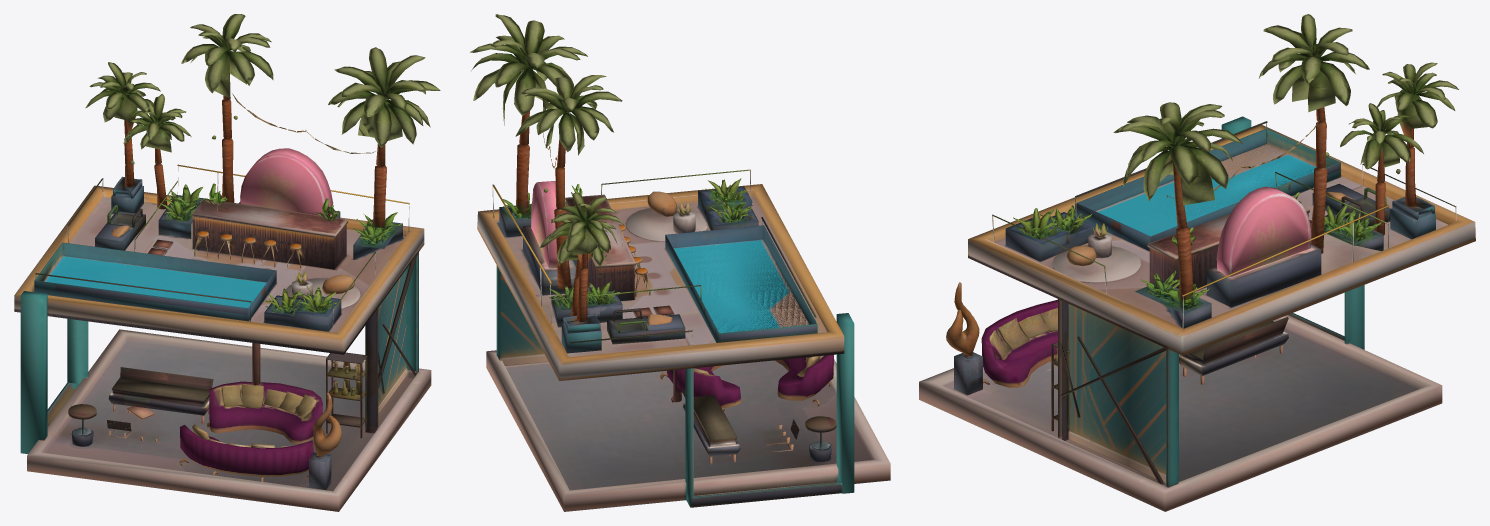
File: tier5-lv23.glb
3 views of the same model, side by side, from view 1: azimuth 30°, elevation 25°; view 2: azimuth 150°, elevation 25°; view 3: azimuth 270°, elevation 25° (orthographic). The views are drawn at different scales.
Parts seen in each view (by area): view 1: tripo_node_d2e096e9-142d-430e-8675-6ba031216216; view 2: tripo_node_d2e096e9-142d-430e-8675-6ba031216216; view 3: tripo_node_d2e096e9-142d-430e-8675-6ba031216216.
Part boxes in pixels (left/top/right/bottom): tripo_node_d2e096e9-142d-430e-8675-6ba031216216: left=14, top=14, right=440, bottom=511; tripo_node_d2e096e9-142d-430e-8675-6ba031216216: left=470, top=14, right=890, bottom=511; tripo_node_d2e096e9-142d-430e-8675-6ba031216216: left=919, top=14, right=1475, bottom=511.
Size of the model in its own units: 1.19 by 0.998 by 1.25.
1 material, 1 textured.
